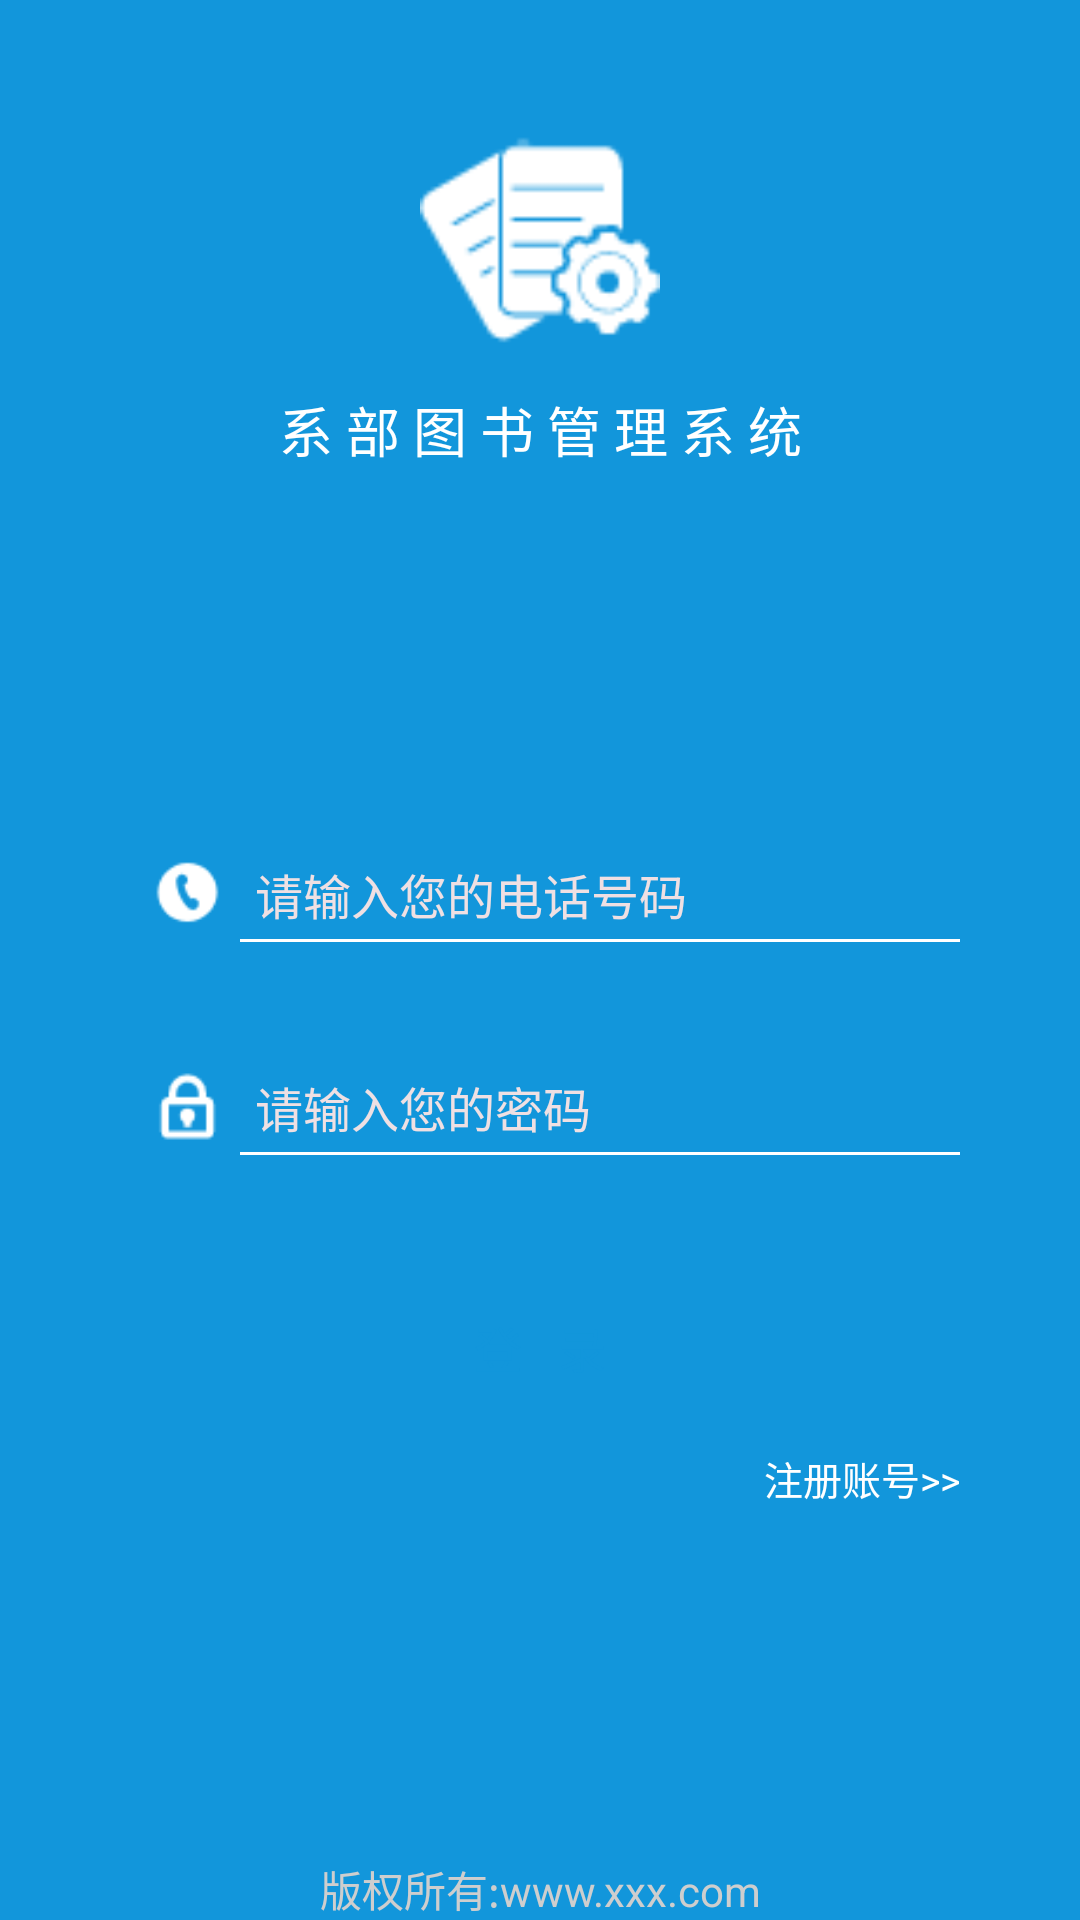

Icons on this 1080w x 1920h Android screen, each with the point to tap as [x,y]:
login pwd: [187,1106]
login tel: [187,892]
